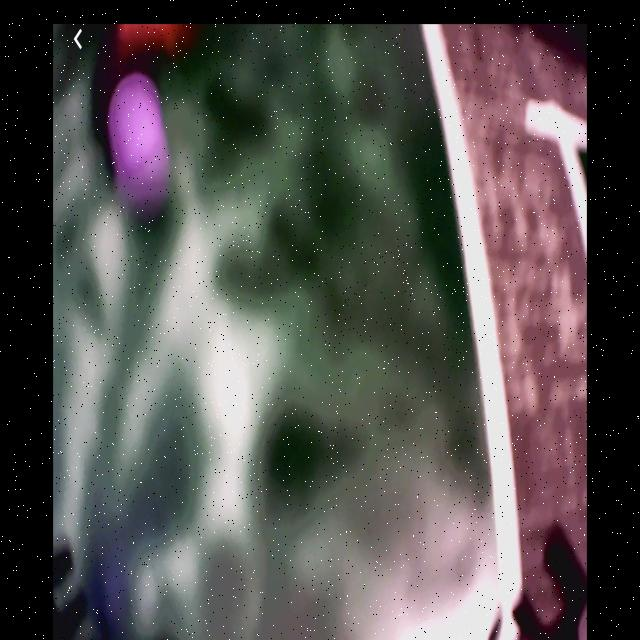ball: (110, 81, 171, 200)
